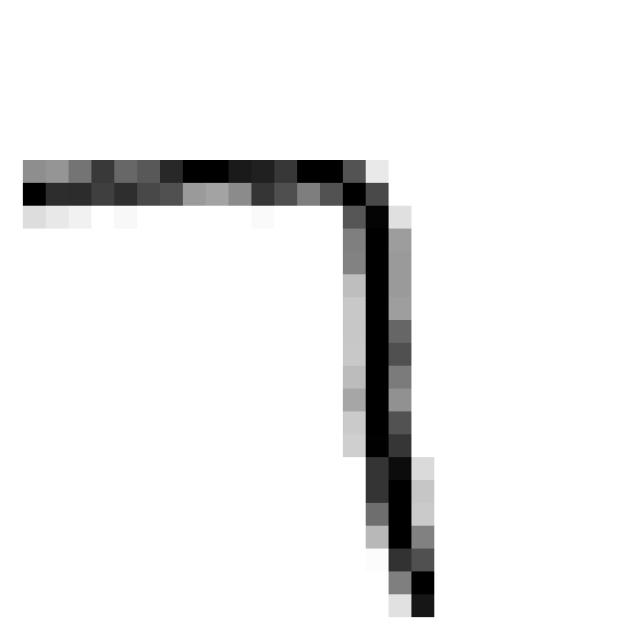6 -six-: (12, 142, 455, 629)
